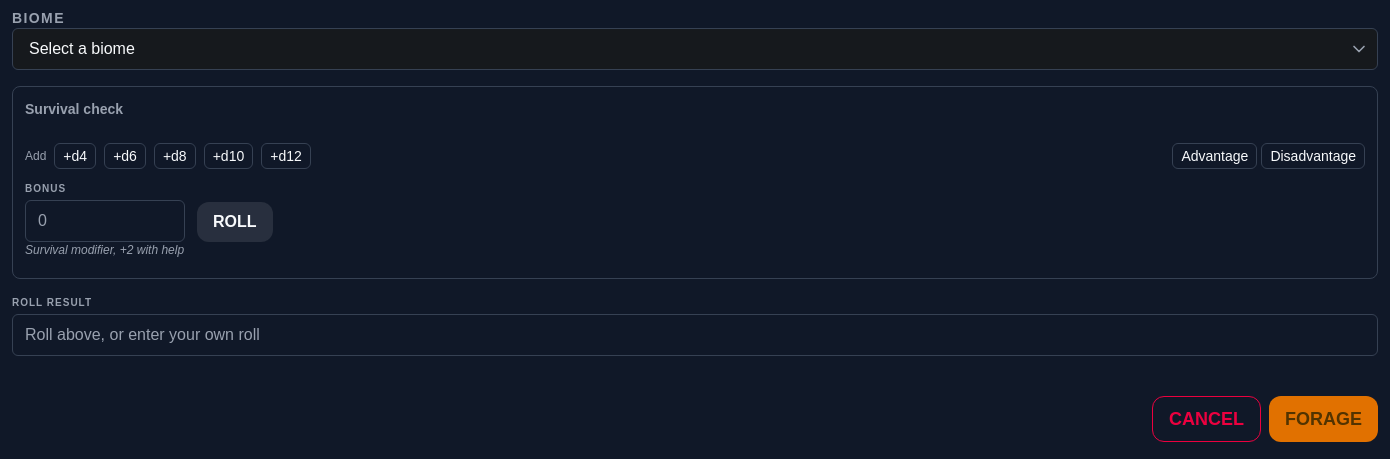
Test: components/modals/go-foraging-modal/forage-biome › should say nothing was found when the roll is below every DC
This screenshot has width=1390, height=459.
Click the button with test id "Dropdown__button": (82, 48) [12, 28, 1378, 70]
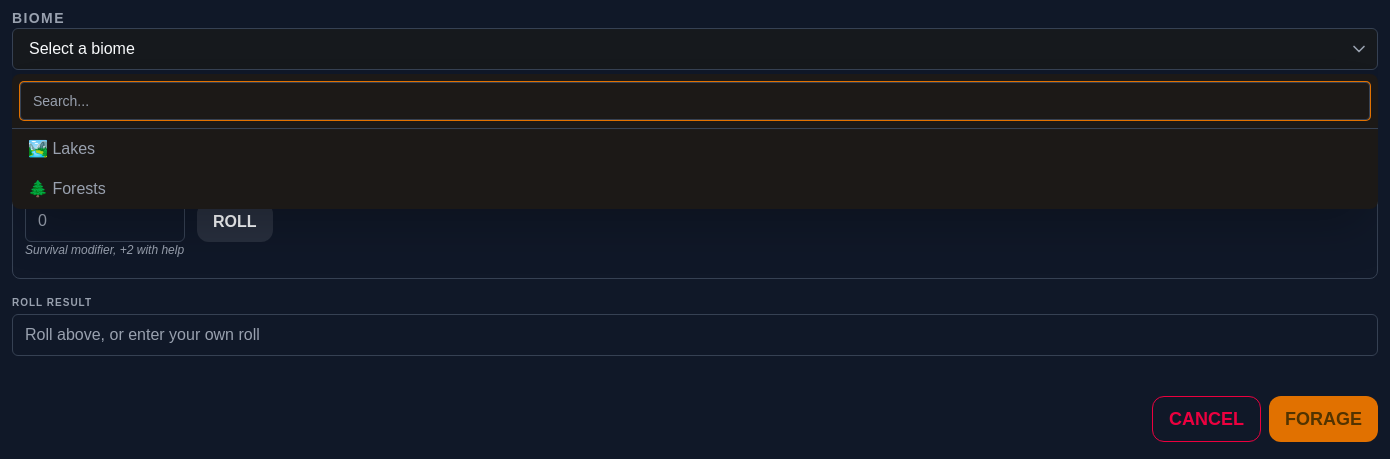
Click the button "🌲 Forests": (67, 188) [12, 169, 1378, 209]
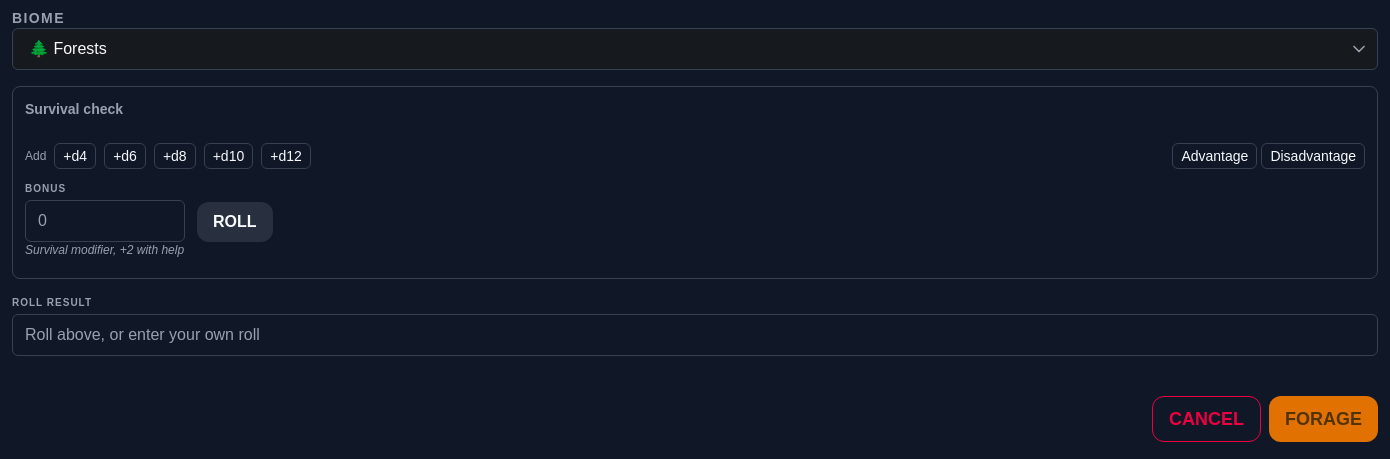
In the number field labelled "Roll result": (695, 335) [12, 314, 1378, 356], type "9"
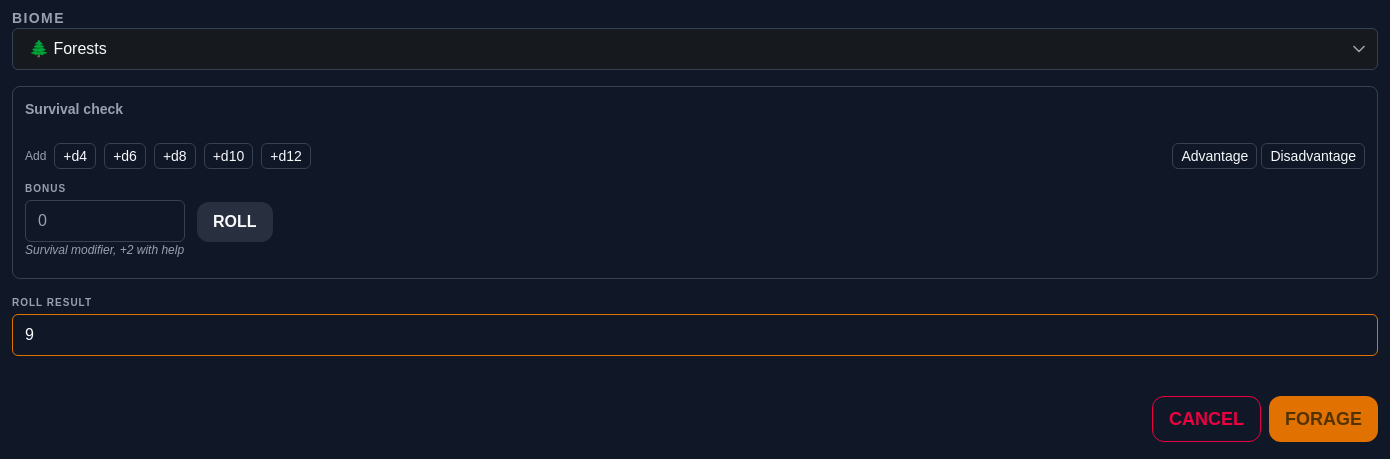
Click the button "Forage": (1324, 419) [1269, 396, 1378, 442]
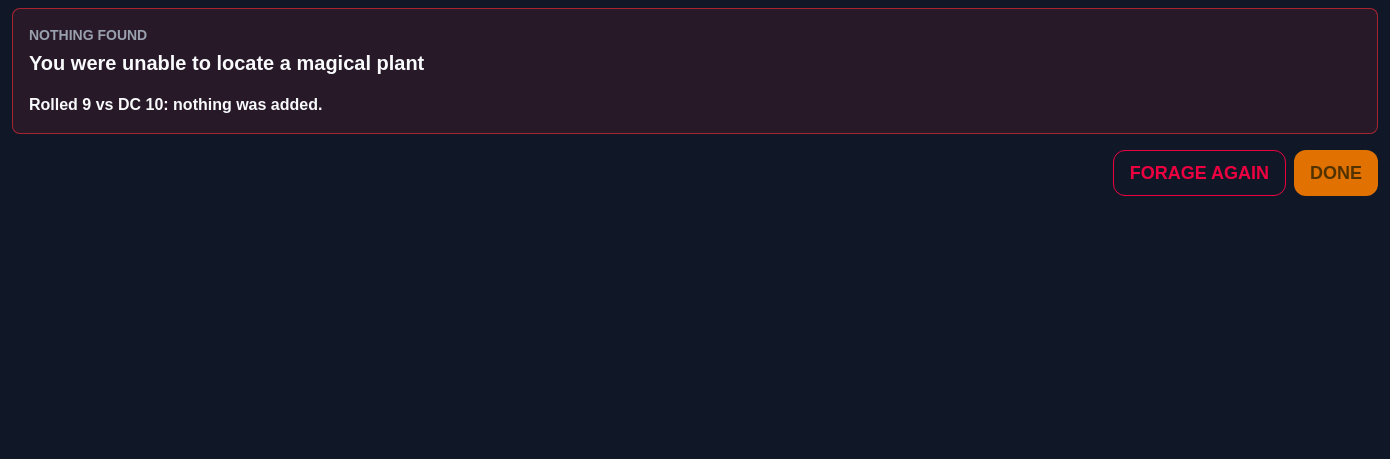
Expected: the text "Nothing found" is shown, [29, 27, 147, 43]
Expected: the text "You were unable to locate a magical plant" is shown, [29, 52, 424, 74]
Expected: the text with test id "forage-biome__outcome" reads "Rolled 9 vs DC 10: nothing was added.", [29, 96, 322, 113]
